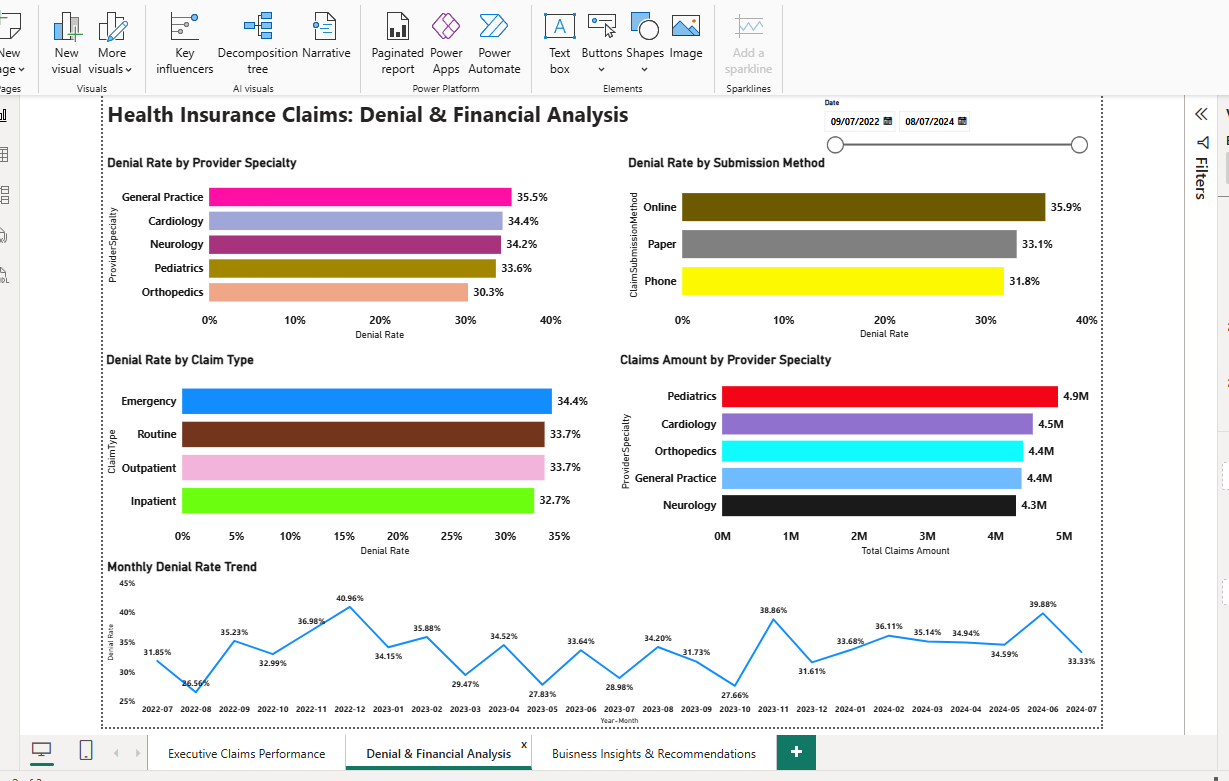

Layout of this report page (visuals, bound fields, positions):
{"tool":"powerbi","page":{"name":"Denial & Financial Analysis","canvas":[1500,950],"ordinal":1},"visuals":[{"type":"clusteredBarChart","title":"Denial Rate by Provider Specialty","fields":{"Y":["FactClaims.Denial Rate"],"Category":["FactClaims.ProviderSpecialty"]},"box":[1.5,90.2,693,282.6],"z":0},{"type":"clusteredBarChart","title":"Denial Rate by Claim Type","fields":{"Category":["FactClaims.ClaimType"],"Y":["FactClaims.Denial Rate"]},"box":[0,386.1,750.8,311.3],"z":1000},{"type":"clusteredBarChart","title":"Denial Rate by Submission Method","fields":{"Category":["FactClaims.ClaimSubmissionMethod"],"Y":["FactClaims.Denial Rate"]},"box":[784.3,90,715.7,282.3],"z":2000},{"type":"clusteredBarChart","title":"Claims Amount by Provider Specialty","fields":{"Category":["FactClaims.ProviderSpecialty"],"Y":["FactClaims.Total Claims Amount"]},"box":[772.1,386.1,727.9,311.3],"z":3000},{"type":"lineChart","title":"Monthly Denial Rate Trend","fields":{"Category":["FactClaims.Year-Month"],"Y":["FactClaims.Denial Rate"]},"box":[1.5,697.4,1498.5,253.3],"z":4000},{"type":"textbox","box":[1.5,0,875.9,90],"z":5000},{"type":"slicer","fields":{"Values":["DimDate.Date"]},"box":[1071.8,0,416.4,90.2],"z":6000}]}

Visuals, with their boxes on the page's 1500x950 design canvas (x1, y1, x2, y2). These are canvas units, not pixel positions in the 1229x781 screenshot, which may show the page scaled, cropped or inside an application window:
"Denial Rate by Provider Specialty" clusteredBarChart: region(2, 90, 694, 373)
"Denial Rate by Claim Type" clusteredBarChart: region(0, 386, 751, 697)
"Denial Rate by Submission Method" clusteredBarChart: region(784, 90, 1500, 372)
"Claims Amount by Provider Specialty" clusteredBarChart: region(772, 386, 1500, 697)
"Monthly Denial Rate Trend" lineChart: region(2, 697, 1500, 951)
textbox: region(2, 0, 877, 90)
slicer - DimDate.Date: region(1072, 0, 1488, 90)
